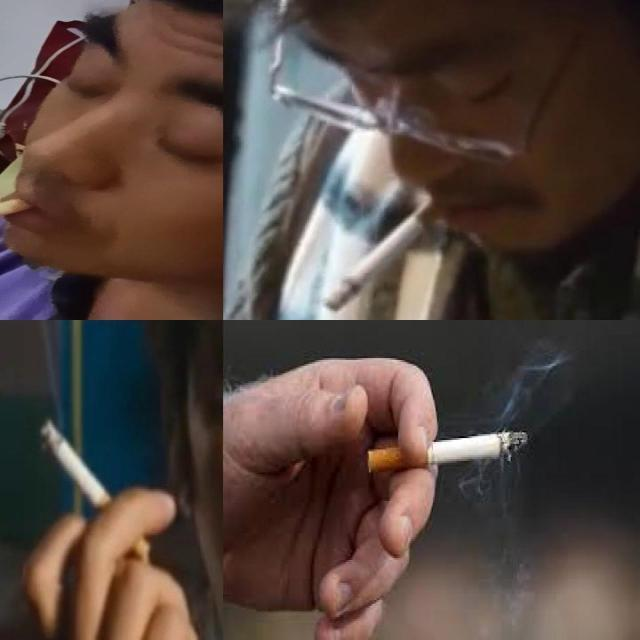smoking: (322, 186, 456, 314), (39, 417, 150, 561), (366, 432, 528, 474)
